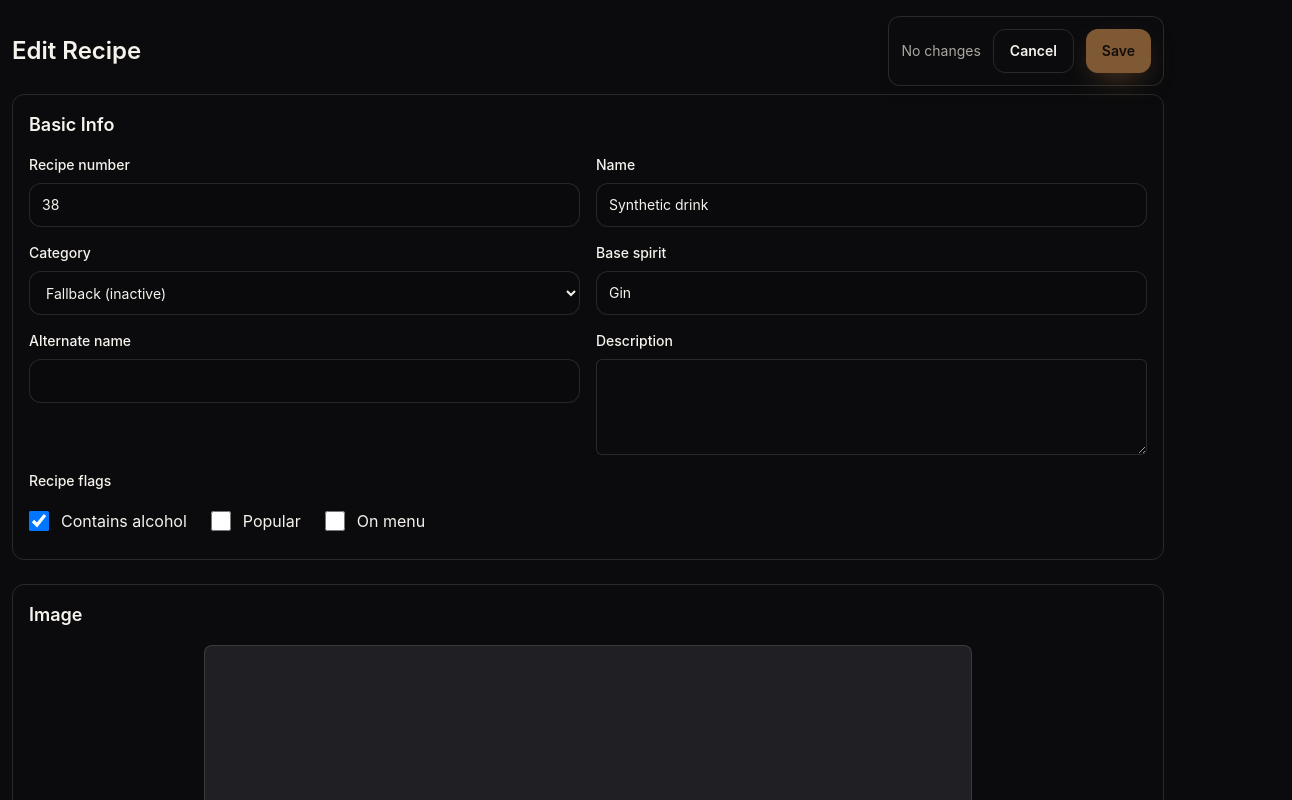
Test case: recipe editor › failed reload retains unsaved input
Type " local" into the field labelled "Name". click: (872, 205)
box: [596, 183, 1147, 227]
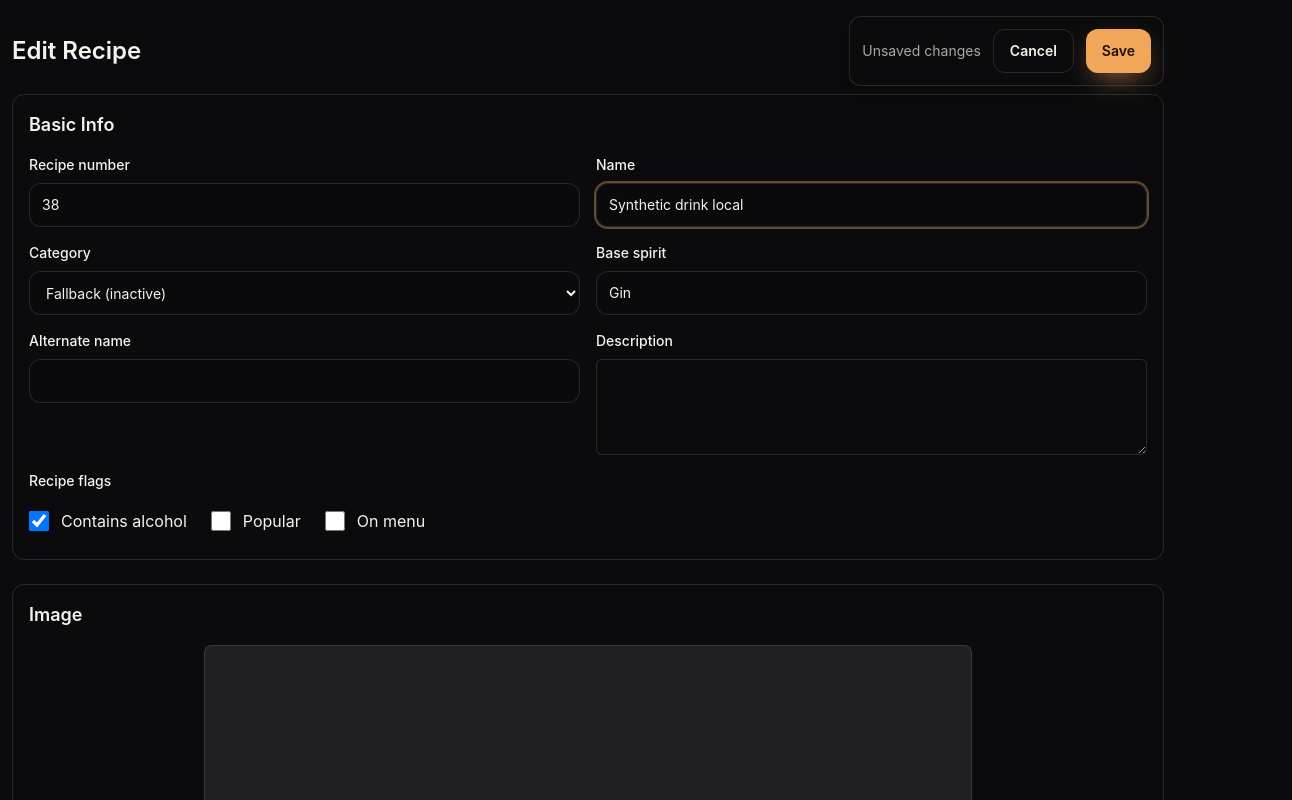
Click the button "Save". click: (1118, 51)
box: [1086, 29, 1151, 73]
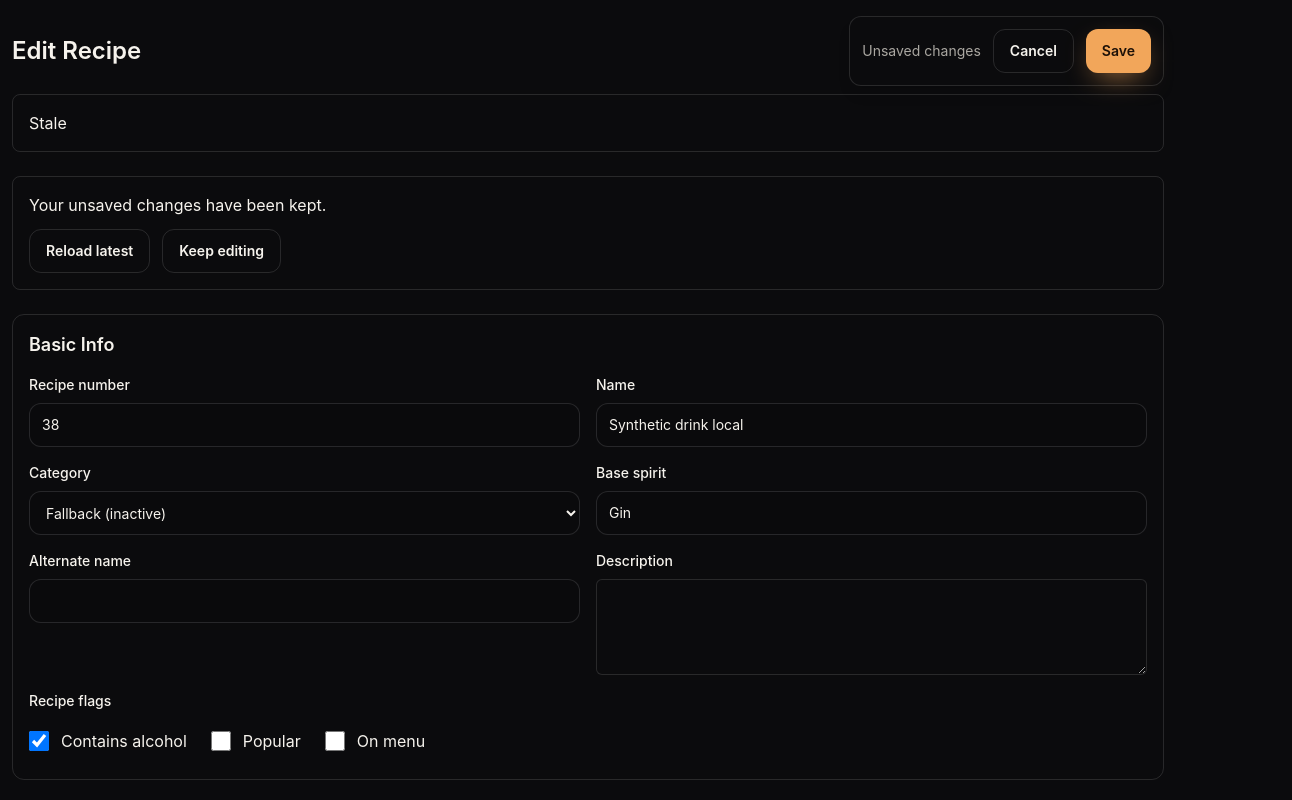
Click the button "Reload latest". click: (90, 251)
box: [29, 229, 150, 273]
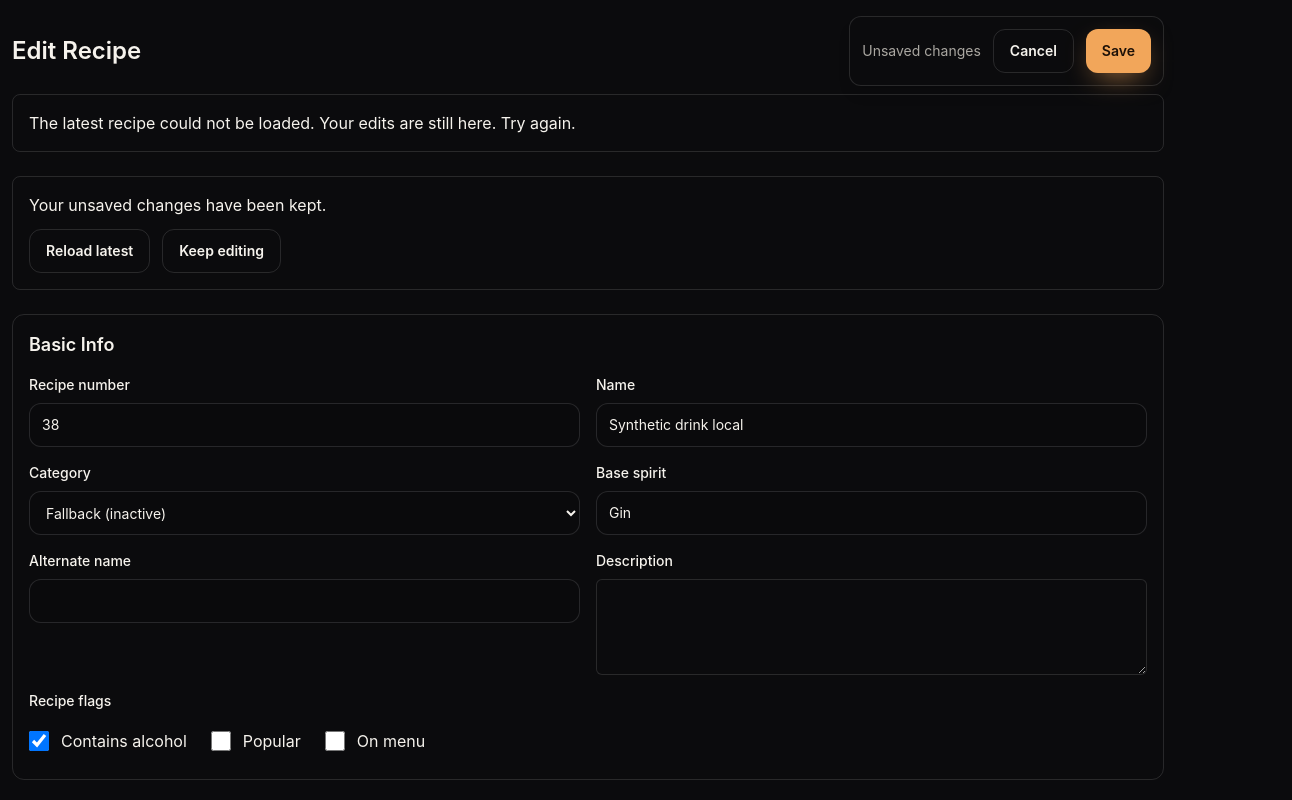
Result: the field labelled "Name" holds "Synthetic drink local" at [596, 403, 1147, 447]
Result: the text "latest recipe could not be loaded" is shown at [29, 113, 576, 133]
